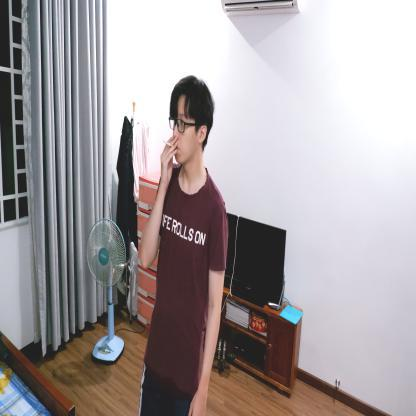cigarette: (162, 139, 173, 148)
person: (130, 74, 229, 415)
